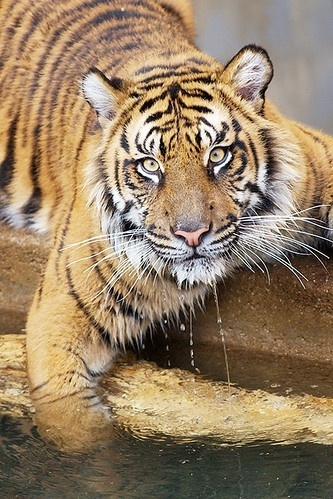tigre: (2, 1, 330, 452)
